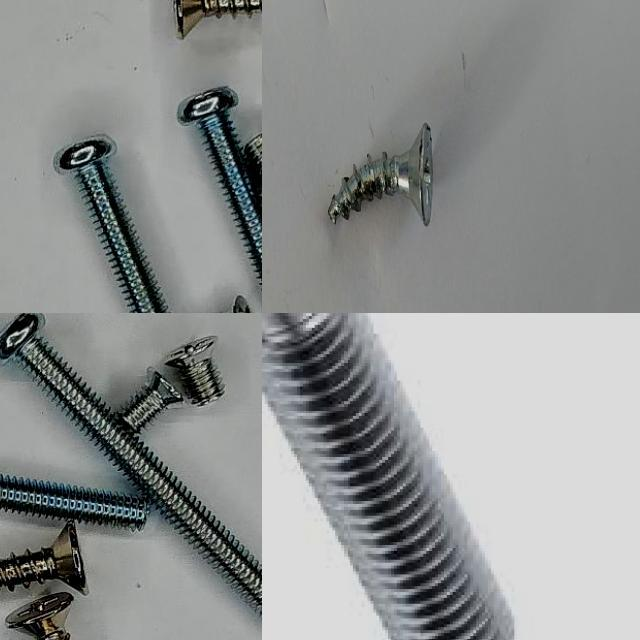Screw: (262, 313, 517, 640), (0, 313, 262, 614), (54, 136, 167, 313), (178, 87, 262, 281), (328, 122, 433, 225), (0, 474, 149, 528), (0, 521, 89, 595), (166, 335, 226, 404), (122, 367, 185, 432), (174, 0, 262, 38), (7, 593, 74, 640), (245, 135, 262, 184)
